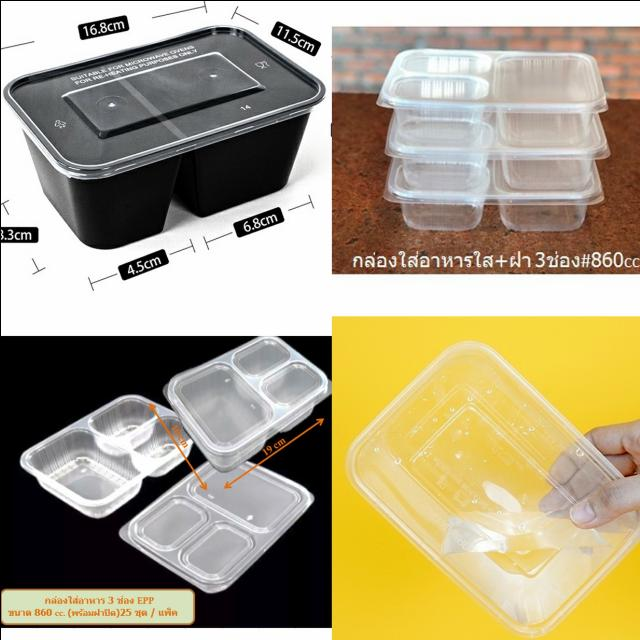plastik: (345, 340, 640, 636), (4, 26, 324, 247), (376, 48, 608, 230), (118, 461, 313, 593), (162, 336, 330, 470), (20, 394, 191, 518)
